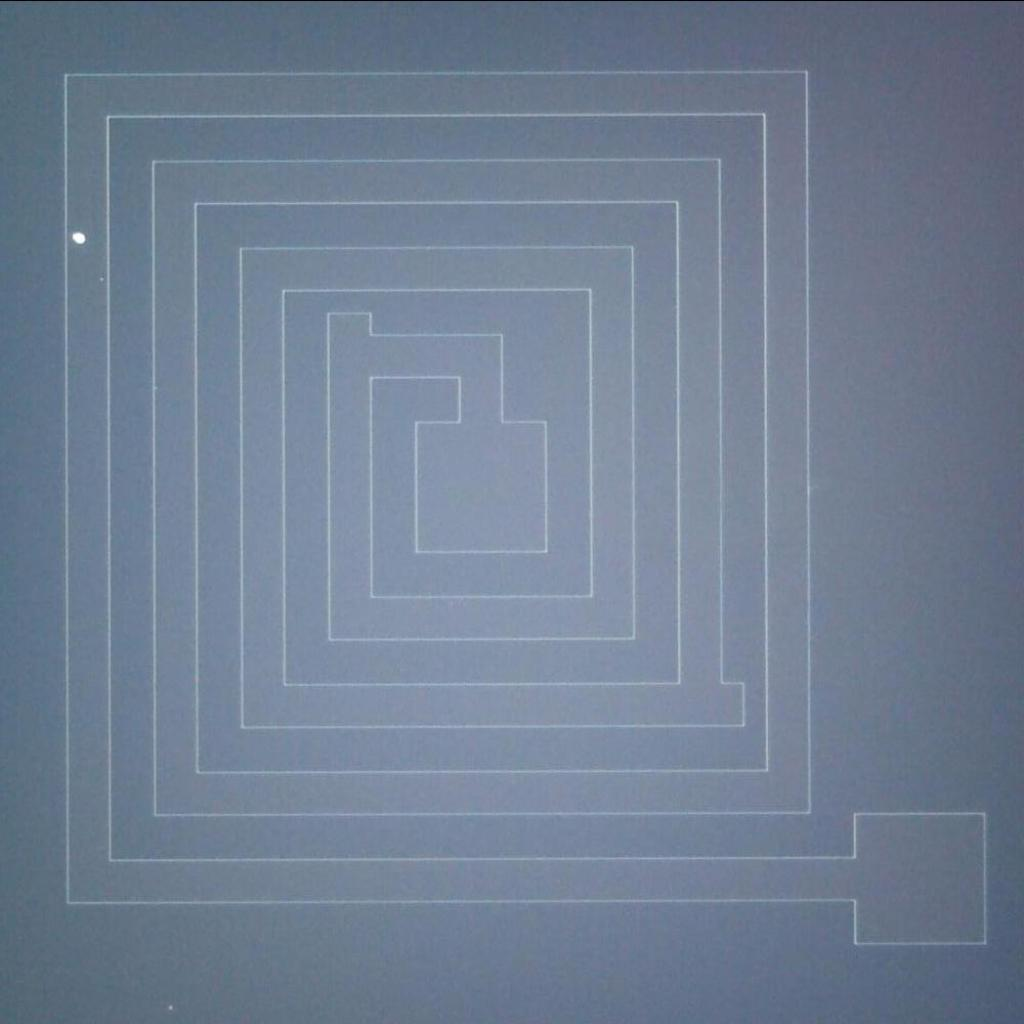budge circuit: (708, 652, 753, 738), (316, 302, 387, 346)
spot: (68, 224, 95, 249)
